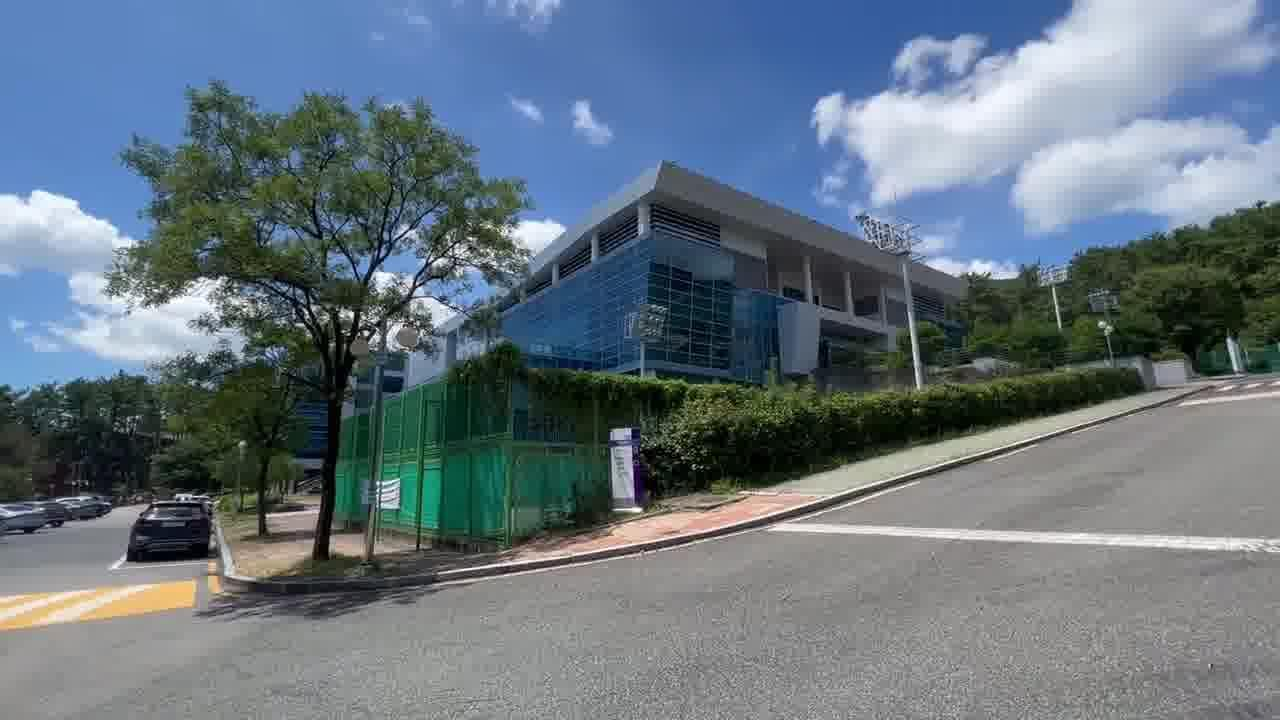building: (556, 149, 887, 383)
